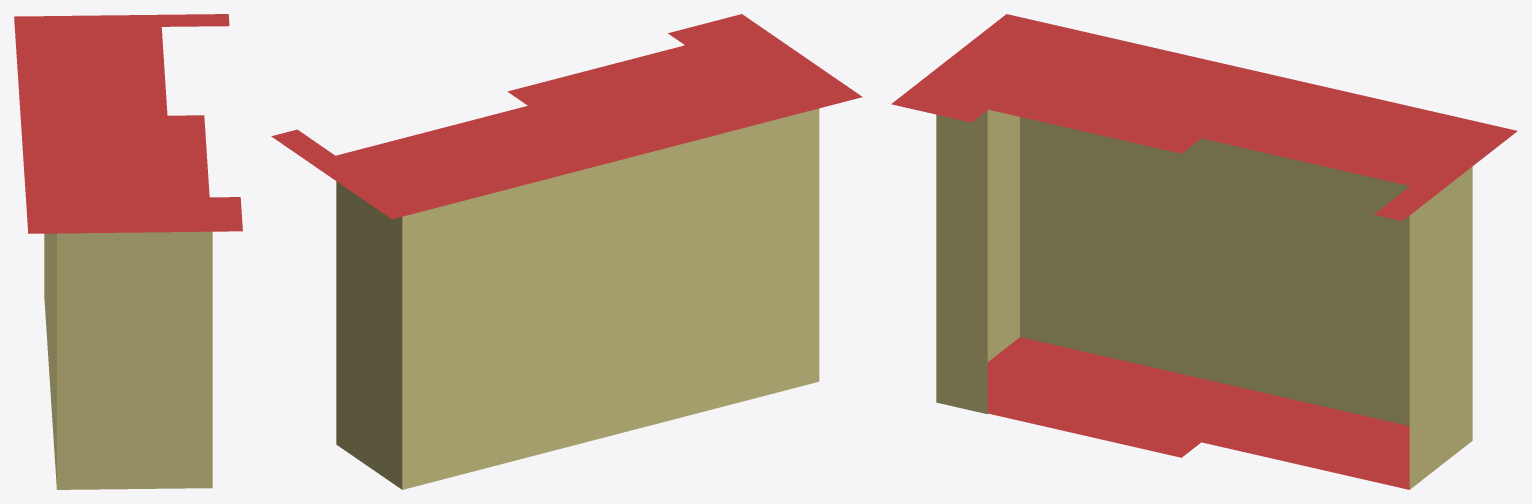
3 views of the same model, side by side, from view 1: azimuth 30°, elevation 25°; view 2: azimuth 150°, elevation 25°; view 3: azimuth 270°, elevation 25° (orthographic). The views are drawn at different scales.
Visible parts, largest first — view 1: group_5, group_3, group_4; view 2: group_5, group_3, group_4; view 3: group_5, group_3, group_6, group_4.
Boxes of the visible parts, x1,y1,x2,y2 form: group_5: (44,231,212,489); group_3: (14,14,242,233); group_4: (54,15,242,232); group_5: (336,45,819,489); group_3: (271,14,862,219); group_4: (272,15,856,153); group_5: (936,109,1472,489); group_3: (891,14,1517,220); group_6: (987,337,1409,489); group_4: (893,25,1409,220).
Size of the model in its own units: 11.03 by 14.1 by 7.54.
